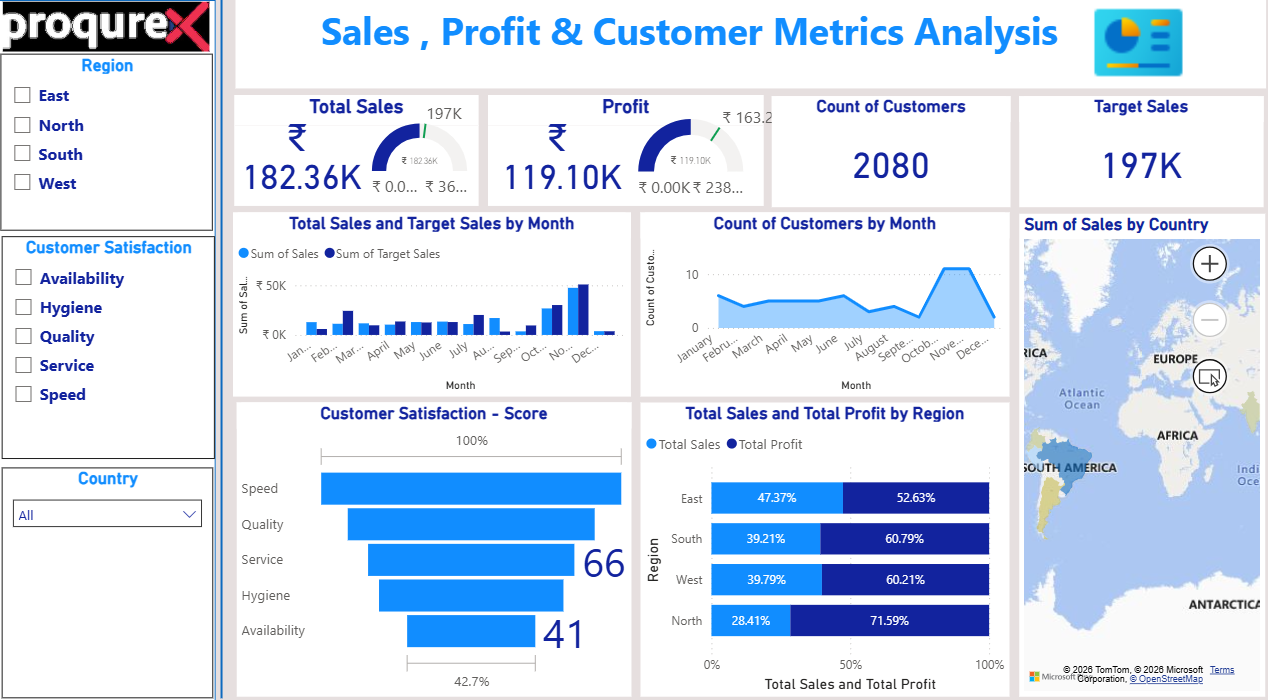

This screenshot's page, from the dashboard's own definition file:
{"tool":"powerbi","page":{"name":"Sales_Profit_and_Customer_Metrics","canvas":[1280,720],"ordinal":0},"visuals":[{"type":"textbox","box":[235.9,19.3,1025.2,87.9],"z":0},{"type":"shape","box":[0,19.3,216.6,701.3],"z":1000},{"type":"image","box":[0,0,215,92.5],"z":2000},{"type":"image","box":[1045,7.5,180,110],"z":3000},{"type":"shape","title":"Total Sales","box":[235,115,243.5,110],"z":4000},{"type":"card","fields":{"Values":["Sum(sales_profit_and_customer_metrics sales_ profit_ &_ customer_ metrics.Sales)"]},"box":[232.5,127.5,139.5,95],"z":5000},{"type":"gauge","fields":{"Y":["Sum(sales_profit_and_customer_metrics sales_ profit_ &_ customer_ metrics.Sales)"],"TargetValue":["Sum(sales_profit_and_customer_metrics sales_ profit_ &_ customer_ metrics.Target Sales)"]},"box":[315,107.5,210,120],"z":6000},{"type":"shape","title":"Profit","box":[487.5,115,274.5,110],"z":7000},{"type":"card","fields":{"Values":["Sum(sales_profit_and_customer_metrics sales_ profit_ &_ customer_ metrics.Profit)"]},"box":[492.5,126.5,137.5,95],"z":8000},{"type":"gauge","fields":{"Y":["Sum(sales_profit_and_customer_metrics sales_ profit_ &_ customer_ metrics.Profit)"],"TargetValue":["Sum(sales_profit_and_customer_metrics sales_ profit_ &_ customer_ metrics.Target Profit)"]},"box":[595,115.8,228.3,111.7],"z":9000},{"type":"card","title":"Count of Customers","fields":{"Values":["Sum(sales_profit_and_customer_metrics sales_ profit_ &_ customer_ metrics.Index)"]},"box":[770.5,116,237.5,110],"z":10000},{"type":"card","title":"Target Sales","fields":{"Values":["Sum(sales_profit_and_customer_metrics sales_ profit_ &_ customer_ metrics.Target Sales)"]},"box":[1015.7,115.7,242.9,110],"z":11000},{"type":"clusteredColumnChart","title":"Total Sales and Target Sales by Month","fields":{"Category":["sales_profit_and_customer_metrics sales_ profit_ &_ customer_ metrics.Month.Variation.Date Hierarchy.Month"],"Y":["Sum(sales_profit_and_customer_metrics sales_ profit_ &_ customer_ metrics.Sales)","Sum(sales_profit_and_customer_metrics sales_ profit_ &_ customer_ metrics.Target Sales)"]},"box":[234.3,231.4,395.7,182.9],"z":12000},{"type":"areaChart","fields":{"Category":["sales_profit_and_customer_metrics sales_ profit_ &_ customer_ metrics.Month.Variation.Date Hierarchy.Month"],"Y":["CountNonNull(sales_profit_and_customer_metrics sales_ profit_ &_ customer_ metrics.Index)"]},"box":[640,231.4,367.1,182.9],"z":13000},{"type":"filledMap","fields":{"Category":["sales_profit_and_customer_metrics sales_ profit_ &_ customer_ metrics.Country"]},"box":[1015.7,232.9,244.3,480],"z":14000},{"type":"funnel","title":"Customer Satisfaction - Score","fields":{"Category":["sales_profit_and_customer_metrics sales_ profit_ &_ customer_ metrics.Customer Satisfaction"],"Y":["Sum(sales_profit_and_customer_metrics sales_ profit_ &_ customer_ metrics.Score)"]},"box":[237.1,420,392.9,292.9],"z":15000},{"type":"hundredPercentStackedBarChart","fields":{"Category":["sales_profit_and_customer_metrics sales_ profit_ &_ customer_ metrics.Region"],"Y":["Sum(sales_profit_and_customer_metrics sales_ profit_ &_ customer_ metrics.Profit)","Sum(sales_profit_and_customer_metrics sales_ profit_ &_ customer_ metrics.Sales)"]},"box":[640,420,367.1,292.9],"z":16000},{"type":"slicer","title":"Region","fields":{"Values":["sales_profit_and_customer_metrics sales_ profit_ &_ customer_ metrics.Region"]},"box":[2.9,72.9,211.4,175.7],"z":17000},{"type":"slicer","title":"Country","fields":{"Values":["sales_profit_and_customer_metrics sales_ profit_ &_ customer_ metrics.Country"]},"box":[4.3,484.7,210.2,229.5],"z":18000},{"type":"slicer","title":"Customer Satisfaction","fields":{"Values":["sales_profit_and_customer_metrics sales_ profit_ &_ customer_ metrics.Customer Satisfaction"]},"box":[3.3,255,211.7,221.7],"z":19000},{"type":"shape","box":[72.9,19.3,298.1,694.9],"z":20000}]}

Visuals, with their boxes on the page's 1280x720 design canvas (x1, y1, x2, y2). These are canvas units, not pixel positions in the 1268x700 screenshot, which may show the page scaled, cropped or inside an application window:
textbox: l=236, t=19, r=1261, b=107
shape: l=0, t=19, r=217, b=721
image: l=0, t=0, r=215, b=92
image: l=1045, t=8, r=1225, b=118
"Total Sales" shape: l=235, t=115, r=478, b=225
card - Sum(sales_profit_and_customer_metrics sales_ profit_ &_ customer_ metrics.Sales): l=232, t=128, r=372, b=222
gauge - Sum(sales_profit_and_customer_metrics sales_ profit_ &_ customer_ metrics.Sales) x Sum(sales_profit_and_customer_metrics sales_ profit_ &_ customer_ metrics.Target Sales): l=315, t=108, r=525, b=228
"Profit" shape: l=488, t=115, r=762, b=225
card - Sum(sales_profit_and_customer_metrics sales_ profit_ &_ customer_ metrics.Profit): l=492, t=126, r=630, b=222
gauge - Sum(sales_profit_and_customer_metrics sales_ profit_ &_ customer_ metrics.Profit) x Sum(sales_profit_and_customer_metrics sales_ profit_ &_ customer_ metrics.Target Profit): l=595, t=116, r=823, b=228
"Count of Customers" card: l=770, t=116, r=1008, b=226
"Target Sales" card: l=1016, t=116, r=1259, b=226
"Total Sales and Target Sales by Month" clusteredColumnChart: l=234, t=231, r=630, b=414
areaChart - sales_profit_and_customer_metrics sales_ profit_ &_ customer_ metrics.Month.Variation.Date Hierarchy.Month x CountNonNull(sales_profit_and_customer_metrics sales_ profit_ &_ customer_ metrics.Index): l=640, t=231, r=1007, b=414
filledMap - sales_profit_and_customer_metrics sales_ profit_ &_ customer_ metrics.Country: l=1016, t=233, r=1260, b=713
"Customer Satisfaction - Score" funnel: l=237, t=420, r=630, b=713
hundredPercentStackedBarChart - sales_profit_and_customer_metrics sales_ profit_ &_ customer_ metrics.Region x Sum(sales_profit_and_customer_metrics sales_ profit_ &_ customer_ metrics.Profit): l=640, t=420, r=1007, b=713
"Region" slicer: l=3, t=73, r=214, b=249
"Country" slicer: l=4, t=485, r=214, b=714
"Customer Satisfaction" slicer: l=3, t=255, r=215, b=477
shape: l=73, t=19, r=371, b=714
